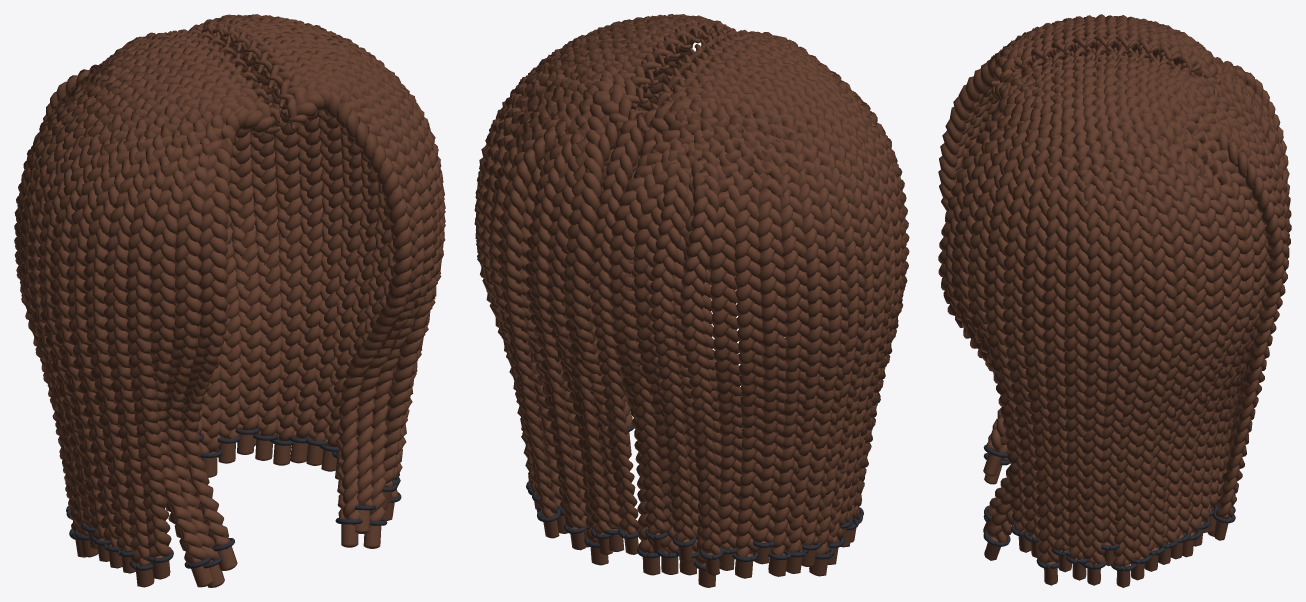
The model's file is Feminine-box-braids-hair.glb.
The picture shows the model from 3 angles, left to right: view 1: azimuth 30°, elevation 25°; view 2: azimuth 150°, elevation 25°; view 3: azimuth 270°, elevation 25°; orthographic projection. The views are drawn at different scales.
Visible parts, largest first — view 1: 226 hair / Hair / chestnut226, 226 hair / Hair / ties226; view 2: 226 hair / Hair / chestnut226, 226 hair / Hair / ties226; view 3: 226 hair / Hair / chestnut226, 226 hair / Hair / ties226.
Boxes of the visible parts, x1,y1,x2,y2 form: 226 hair / Hair / chestnut226: (14, 14, 445, 587); 226 hair / Hair / ties226: (66, 428, 401, 570); 226 hair / Hair / chestnut226: (474, 14, 909, 587); 226 hair / Hair / ties226: (526, 425, 863, 570); 226 hair / Hair / chestnut226: (938, 14, 1291, 587); 226 hair / Hair / ties226: (983, 445, 1235, 571).
Bounding box in the file's own units: 1.07 × 1.31 × 0.8719.
